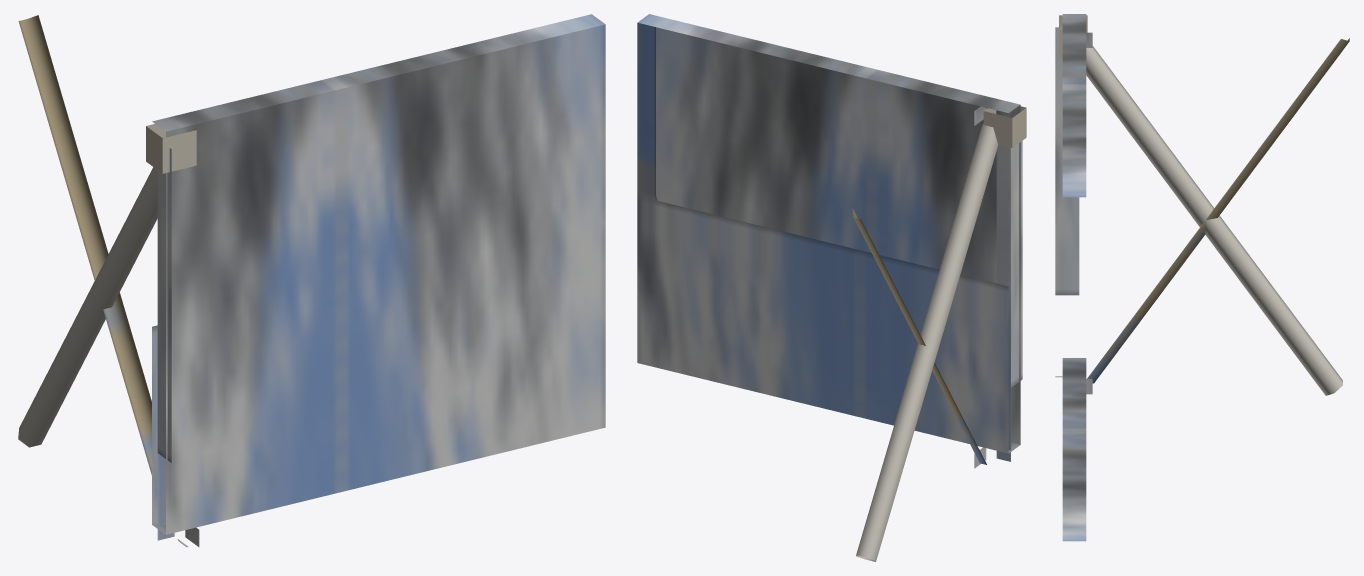
File: section-2.obj
3 renders of one model, left to right at view 1: azimuth 30°, elevation 25°; view 2: azimuth 150°, elevation 25°; view 3: azimuth 270°, elevation 25°, orthographic. The views are drawn at different scales.
Bounding box in the file's own units: 0.9906 × 0.9214 × 0.665.
